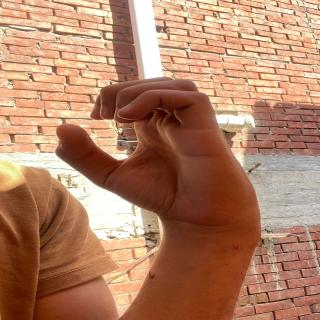JEEM: (53, 68, 267, 205)
